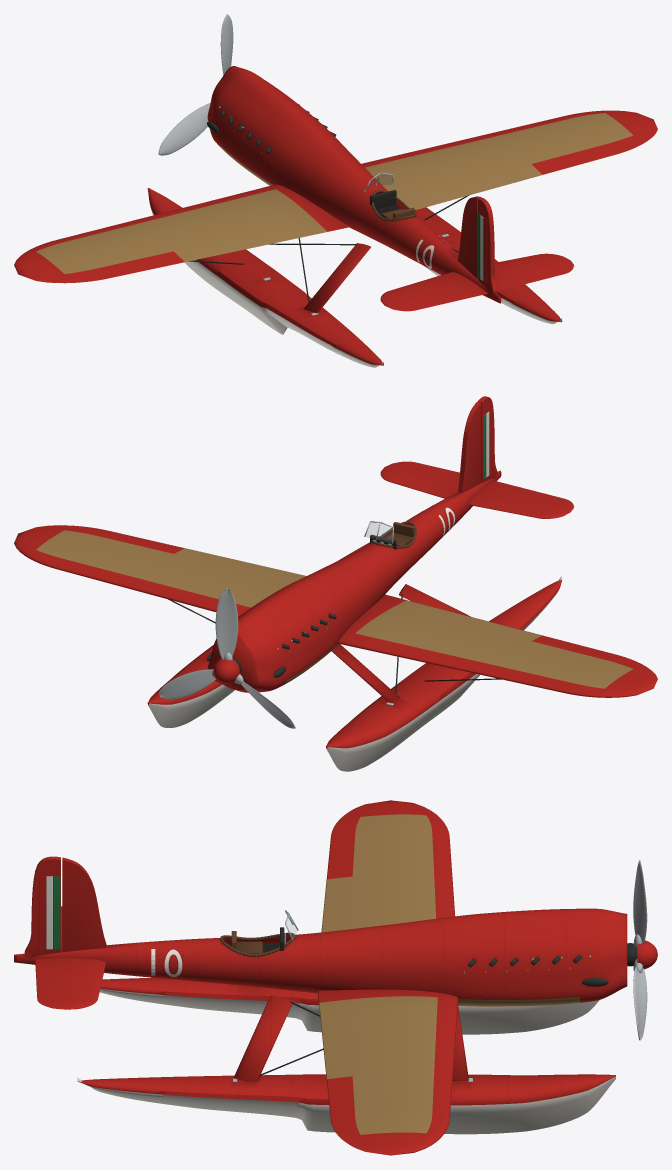
3 views of the same model, one above another, from view 1: azimuth 30°, elevation 25°; view 2: azimuth 150°, elevation 25°; view 3: azimuth 270°, elevation 25° (orthographic). The views are drawn at different scales.
Visible parts, largest first — view 1: AircraftBody, Port hard-chine stepped float, Starboard hard-chine stepped float, Fitted trailing-edge aileron, Fitted trailing-edge aileron.001, Twisted propeller blade.002, Fitted tailplane elevator, Curved hinged rudder, Twisted propeller blade; view 2: AircraftBody, Port hard-chine stepped float, Starboard hard-chine stepped float, Twisted propeller blade, Twisted propeller blade.001, Fitted trailing-edge aileron, Fitted trailing-edge aileron.001, Fitted tailplane elevator, Curved hinged rudder, Twisted propeller blade.002, Spinner ogive and rear plate; view 3: AircraftBody, Starboard hard-chine stepped float, Port hard-chine stepped float, Fitted trailing-edge aileron.001, Fitted trailing-edge aileron, Curved hinged rudder, Twisted propeller blade, Twisted propeller blade.001, Fitted tailplane elevator, Rudder national stripe.003, Rudder national stripe.004, Rudder national stripe.005.
Part boxes in pixels (<box>): AircraftBody: <box>14,66,657,315</box>; Port hard-chine stepped float: <box>147,188,383,367</box>; Starboard hard-chine stepped float: <box>415,207,562,324</box>; Fitted trailing-edge aileron: <box>49,251,184,283</box>; Fitted trailing-edge aileron.001: <box>532,131,651,174</box>; Twisted propeller blade.002: <box>158,103,210,155</box>; Fitted tailplane elevator: <box>394,264,573,311</box>; Curved hinged rudder: <box>478,197,497,294</box>; Twisted propeller blade: <box>220,14,233,75</box>; AircraftBody: <box>14,401,657,705</box>; Port hard-chine stepped float: <box>326,576,562,771</box>; Starboard hard-chine stepped float: <box>147,533,383,727</box>; Twisted propeller blade: <box>215,588,238,659</box>; Twisted propeller blade.001: <box>158,669,215,699</box>; Fitted trailing-edge aileron: <box>532,635,651,674</box>; Fitted trailing-edge aileron.001: <box>50,525,184,553</box>; Fitted tailplane elevator: <box>394,461,573,507</box>; Curved hinged rudder: <box>478,396,497,482</box>; Twisted propeller blade.002: <box>236,677,295,728</box>; Spinner ogive and rear plate: <box>213,658,239,683</box>; AircraftBody: <box>14,800,637,1155</box>; Starboard hard-chine stepped float: <box>77,1074,615,1134</box>; Port hard-chine stepped float: <box>99,977,599,1034</box>; Fitted trailing-edge aileron.001: <box>326,1076,365,1144</box>; Fitted trailing-edge aileron: <box>326,810,365,879</box>; Curved hinged rudder: <box>24,856,60,958</box>; Twisted propeller blade: <box>633,860,647,943</box>; Twisted propeller blade.001: <box>633,966,647,1040</box>; Fitted tailplane elevator: <box>35,958,55,1007</box>; Rudder national stripe.003: <box>53,876,60,949</box>; Rudder national stripe.004: <box>46,876,52,949</box>; Rudder national stripe.005: <box>39,876,45,949</box>.
Bounding box in the file's own units: 9.98 × 2.97 × 7.65.
Materials: 9 (1 with a texture image).
